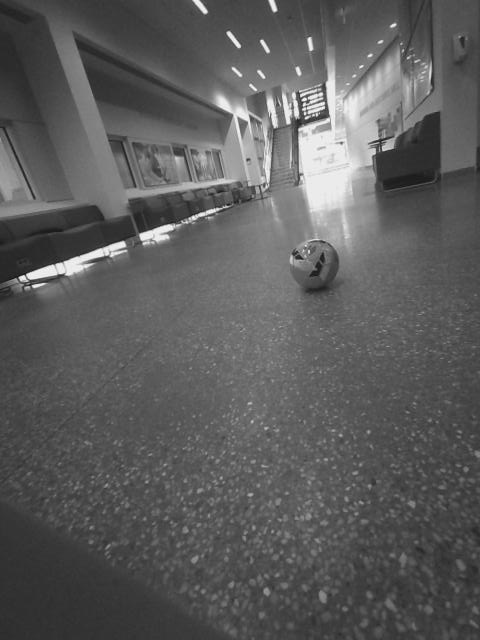ball: (284, 238, 345, 294)
